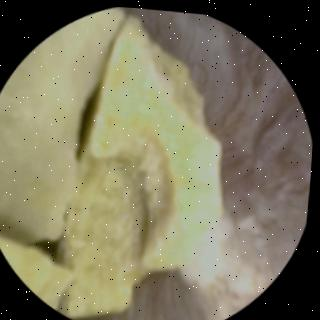stone: (0, 8, 224, 314)
tissue: (106, 8, 312, 320)
